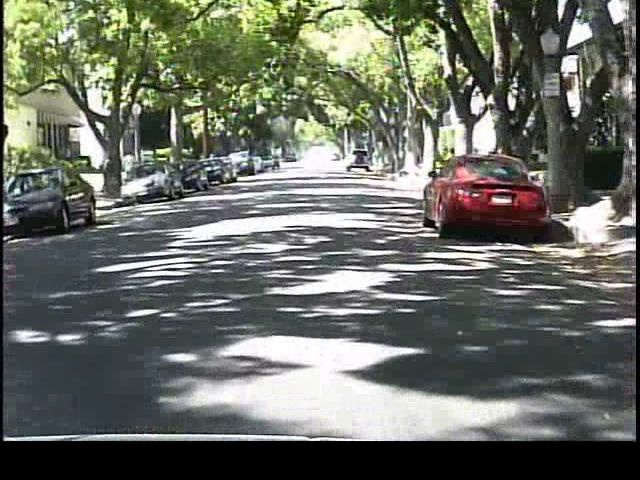person: (120, 147, 142, 195)
